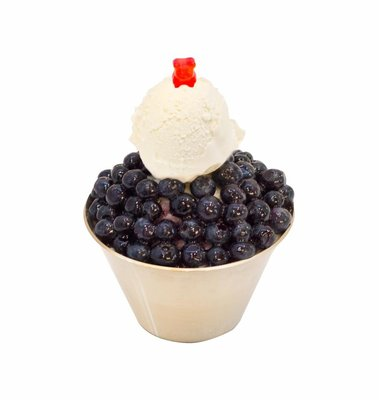sushi: (82, 119, 297, 343)
